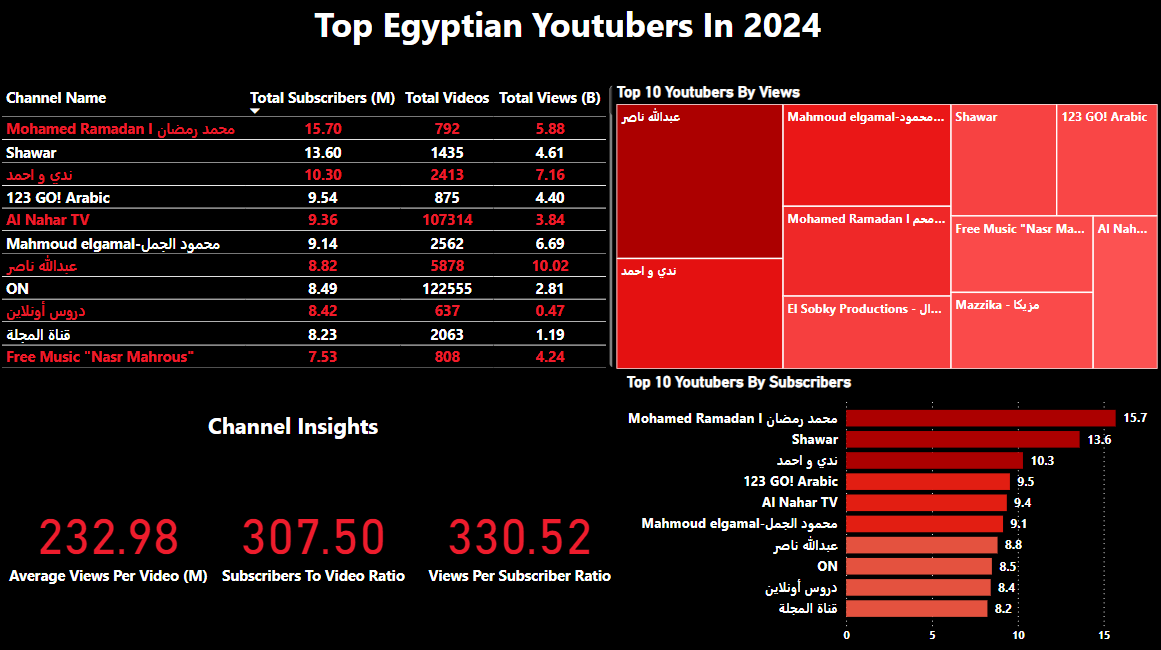

The dashboard page shown, as its layout file describes it:
{"tool":"powerbi","page":{"name":"youtube","canvas":[1280,720],"ordinal":0},"visuals":[{"type":"textbox","box":[344.4,0,575,72.7],"z":0},{"type":"tableEx","fields":{"Values":["view_egypt_youtubers.channel_name","view_egypt_youtubers.total_subscribers (M)","Sum(view_egypt_youtubers.total_videos)","view_egypt_youtubers.total_views (B)"]},"box":[0,93.3,687.5,319.7],"z":1000},{"type":"treemap","title":"Top 10 Youtubers By Views","fields":{"Group":["view_egypt_youtubers.channel_name"],"Values":["view_egypt_youtubers.total_views (B)"]},"box":[676.5,94.7,603.8,319.7],"z":2000},{"type":"card","fields":{"Values":["view_egypt_youtubers.average_views_per_video (M)"]},"box":[0,476.2,247,242.9],"z":3000},{"type":"card","fields":{"Values":["view_egypt_youtubers.subscribers_to_video_ratio"]},"box":[234.6,476.2,227.8,242.9],"z":4000},{"type":"card","fields":{"Values":["view_egypt_youtubers.views per subscriber ratio"]},"box":[462.4,476.2,225,242.9],"z":5000},{"type":"clusteredBarChart","title":"Top 10 Youtubers By Subscribers","fields":{"Category":["view_egypt_youtubers.channel_name"],"Y":["view_egypt_youtubers.total subscribers (M)"]},"box":[687.5,413,592.8,307.4],"z":6000},{"type":"textbox","box":[227.8,450.1,404.8,53.5],"z":7000}]}

Visuals, with their boxes in screenshot pixels (x1, y1, x2, y2), scaled from the page's 1280x720 canvas onto the 1161x650 screenshot:
textbox: Rect(312, 0, 834, 66)
tableEx - view_egypt_youtubers.channel_name x view_egypt_youtubers.total_subscribers (M): Rect(0, 84, 624, 373)
"Top 10 Youtubers By Views" treemap: Rect(614, 85, 1160, 374)
card - view_egypt_youtubers.average_views_per_video (M): Rect(0, 430, 224, 649)
card - view_egypt_youtubers.subscribers_to_video_ratio: Rect(213, 430, 419, 649)
card - view_egypt_youtubers.views per subscriber ratio: Rect(419, 430, 623, 649)
"Top 10 Youtubers By Subscribers" clusteredBarChart: Rect(624, 373, 1160, 649)
textbox: Rect(207, 406, 574, 455)
